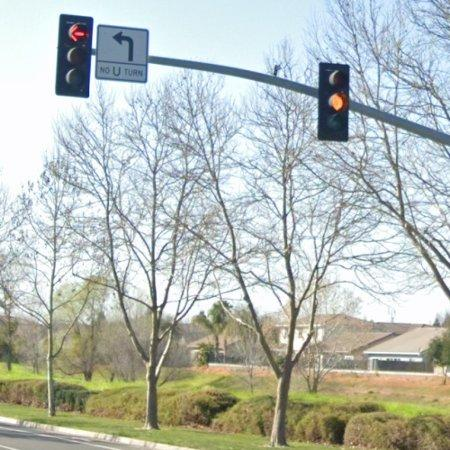traffic lights: (55, 14, 93, 98)
